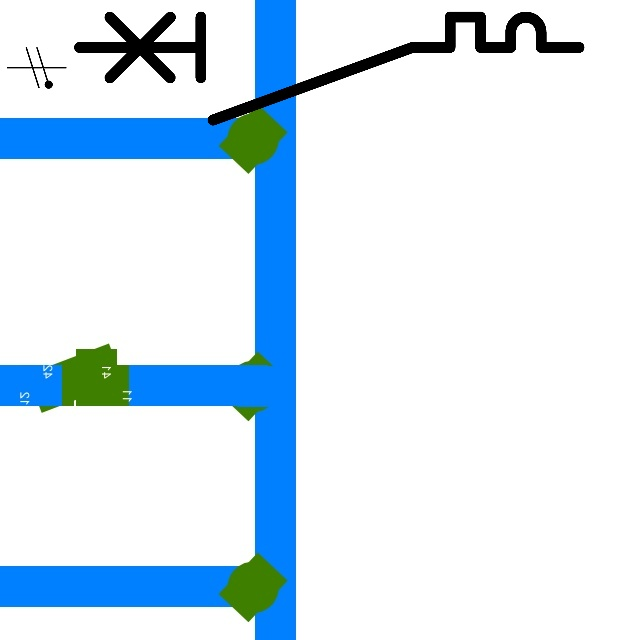interruptor_termomagnetico: (66, 4, 592, 132)
